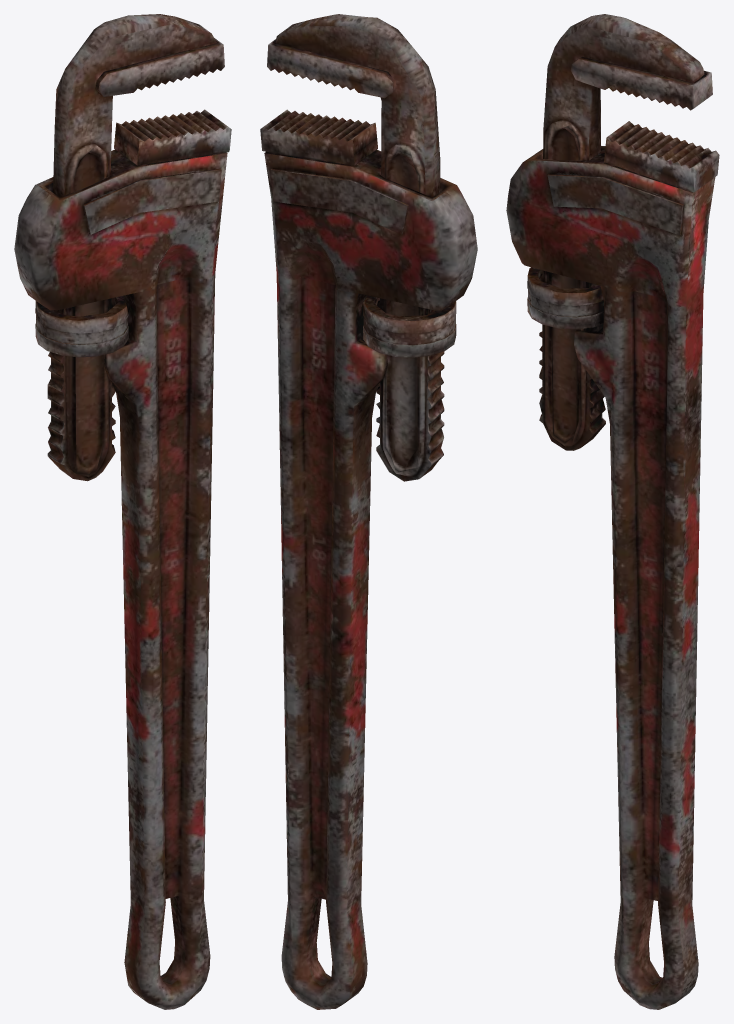
File: wrench.glb
3 renders of one model, left to right at view 1: azimuth 30°, elevation 25°; view 2: azimuth 150°, elevation 25°; view 3: azimuth 330°, elevation 25°, orthographic. The views are drawn at different scales.
Visible parts, largest first — view 1: pipe_wrench; view 2: pipe_wrench; view 3: pipe_wrench.
Part boxes in pixels (x1,y1,x2,y2): pipe_wrench: (14,14,231,1009); pipe_wrench: (260,14,477,1009); pipe_wrench: (506,14,719,1009).
Size of the model in its own units: 0.0839 by 0.4042 by 0.0339.
Materials: 1 (1 with a texture image).
